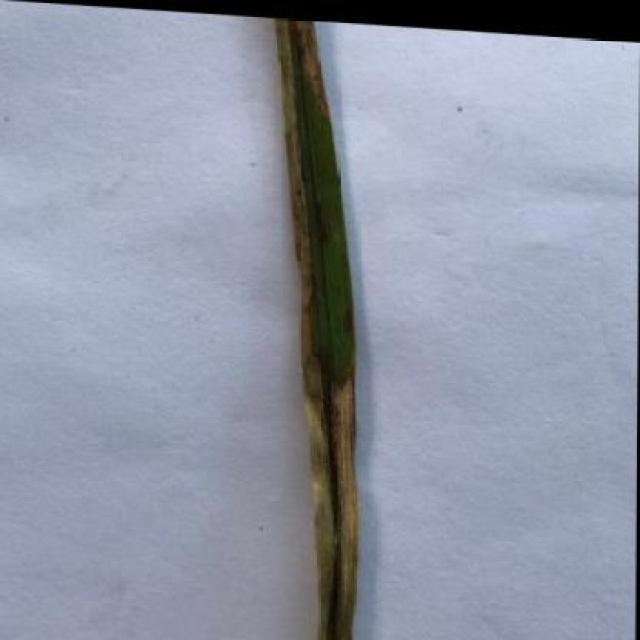Brown_Spot: (253, 12, 369, 640)
